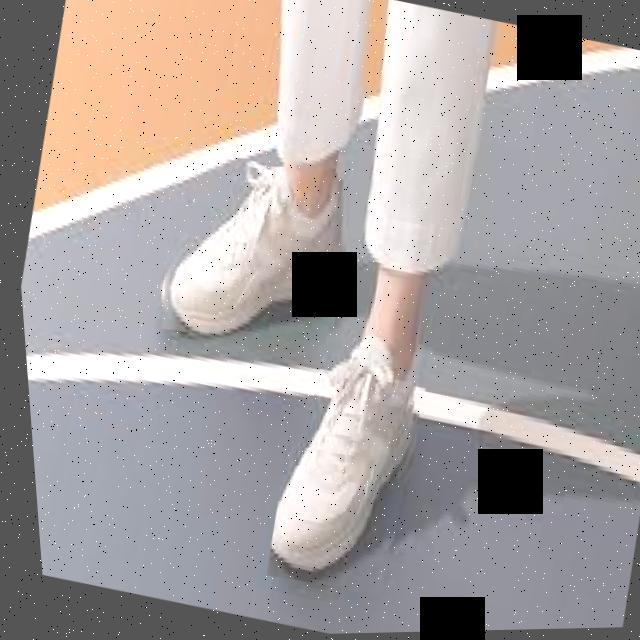shoe: (242, 320, 442, 605), (134, 143, 363, 367)
